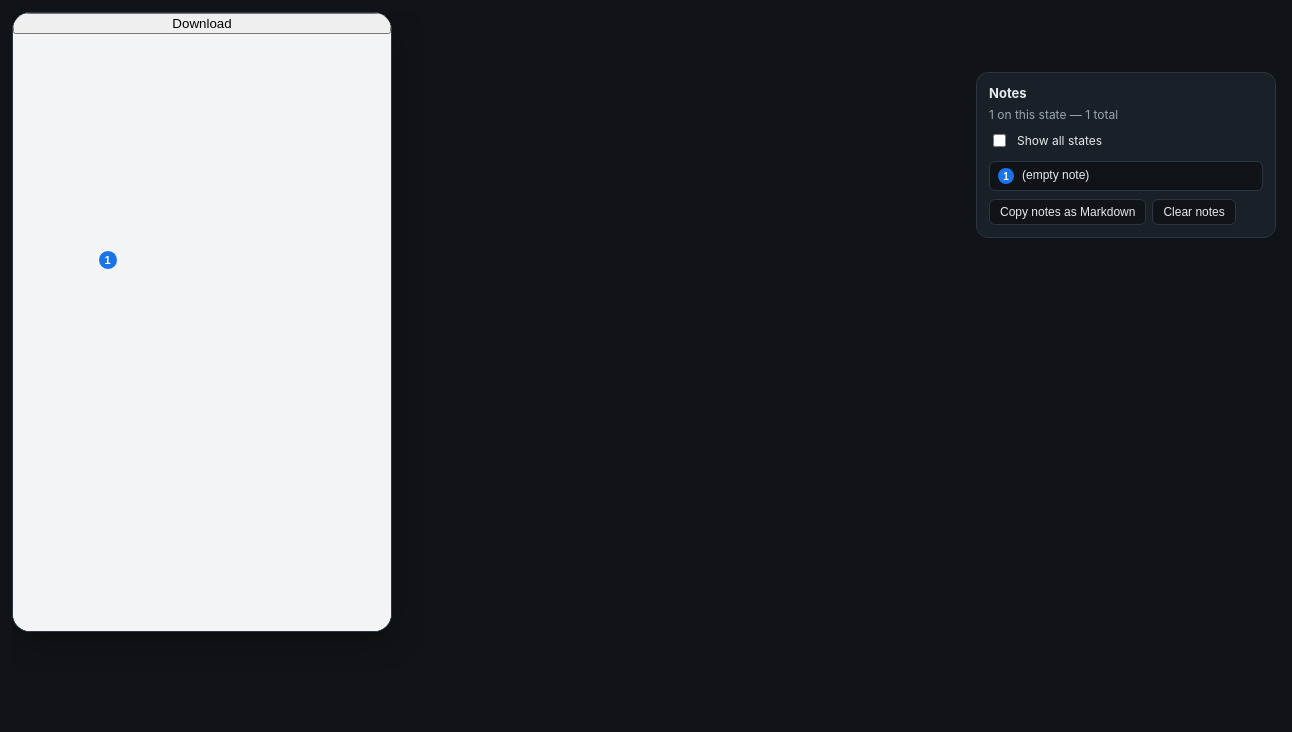
Test: annotate overlay — Route A pin placement › clears the current state notes after confirm
Expected: the button with class "sim-pin" is shown, [98,250,118,270]
Click the button "Clear notes" at (1194, 212), box [1152,199,1236,225]
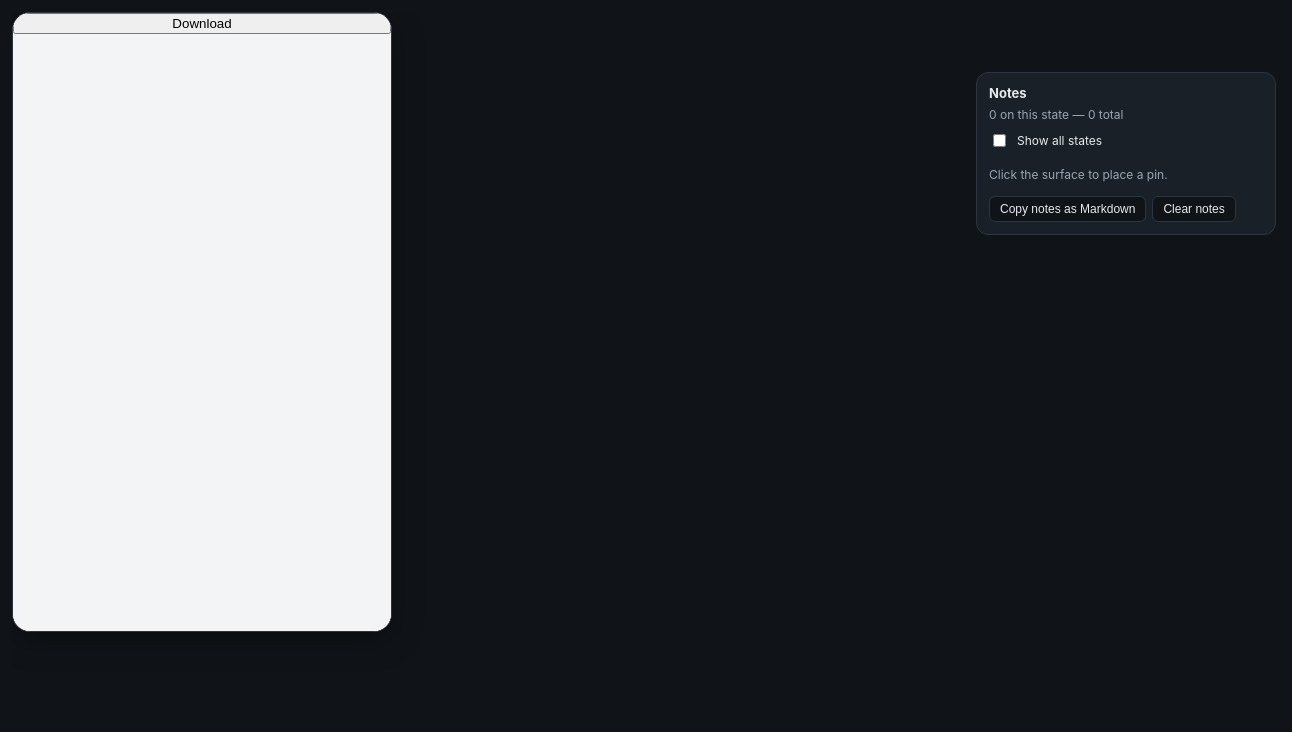
Expected: the button with class "sim-pin" is gone
